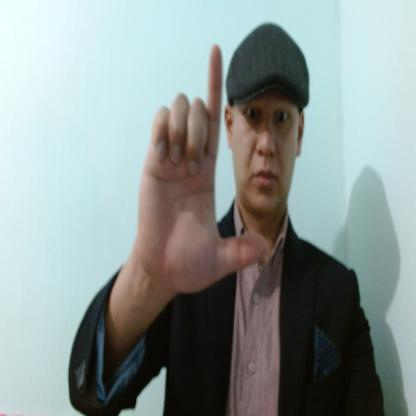L: (138, 44, 268, 292)
